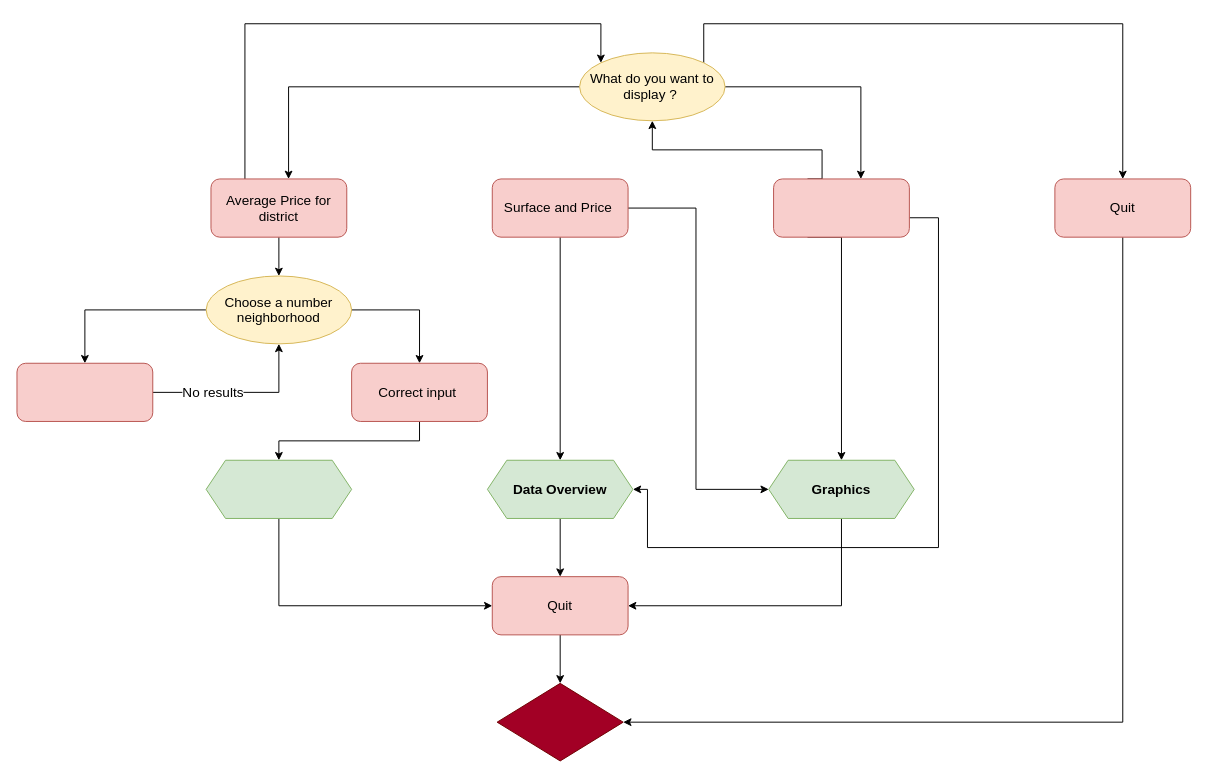
This 1208x778 diagram has some shape labels left out. Here are the shapes that lost their labels. From the top down, the box of each, then its label:
(773, 178, 909, 237): Price distribution
(16, 362, 153, 421): Incorrect input
(205, 459, 352, 518): Avervage Price for this
(496, 682, 623, 761): END
